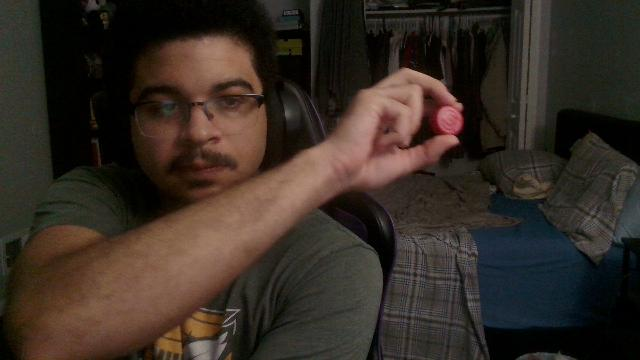cap: (431, 105, 463, 135)
